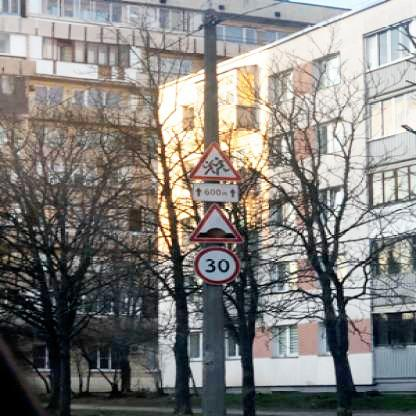Speed Limit -30-: (194, 245, 240, 285)
